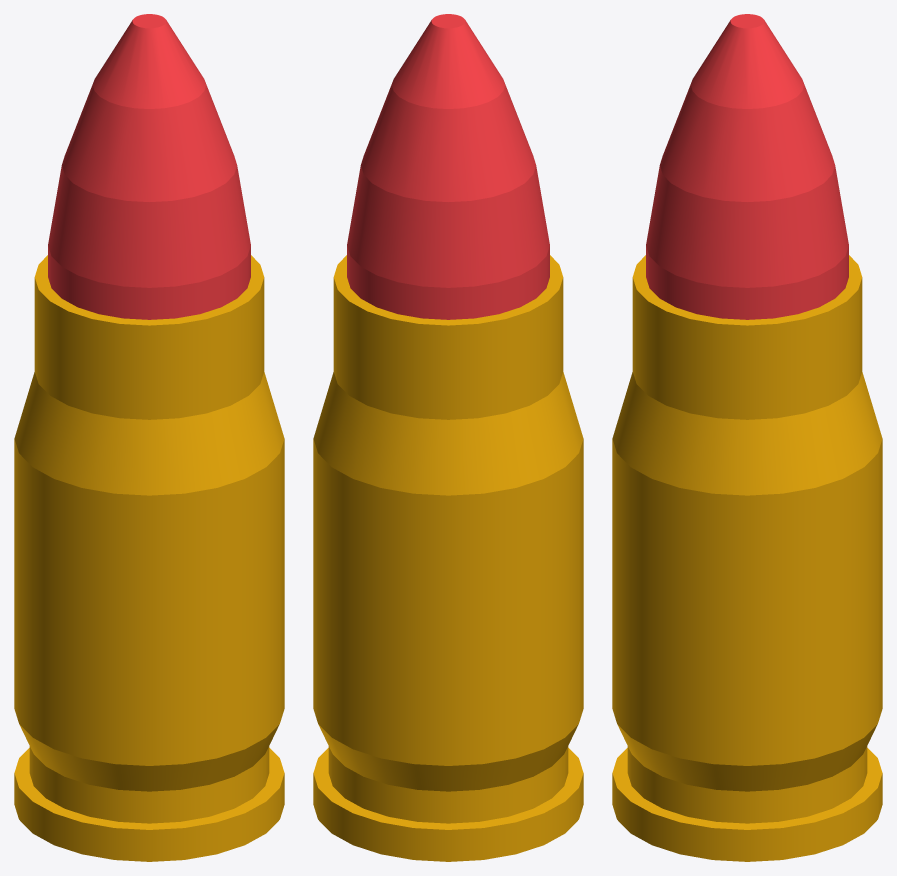
The model's file is ammo_machinegun.dae.
3 renders of one model, left to right at view 1: azimuth 30°, elevation 25°; view 2: azimuth 150°, elevation 25°; view 3: azimuth 270°, elevation 25°, orthographic.
Visible parts, largest first — view 1: Group (×2); view 2: Group (×2); view 3: Group (×2).
Boxes of the visible parts, x1,y1,x2,y2 form: Group (×2): (14,14,284,861); Group (×2): (313,14,583,861); Group (×2): (612,14,882,861).
Bounding box in the file's own units: 0.0293 × 0.0938 × 0.0293.
